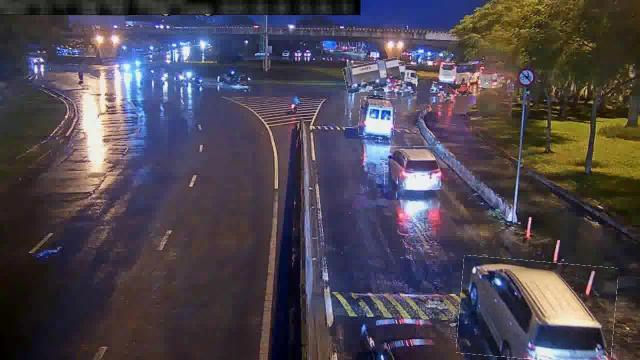Bus: (359, 97, 395, 137)
Car: (458, 258, 618, 360), (384, 146, 442, 194)
Truck: (344, 61, 401, 92), (376, 64, 416, 90)
